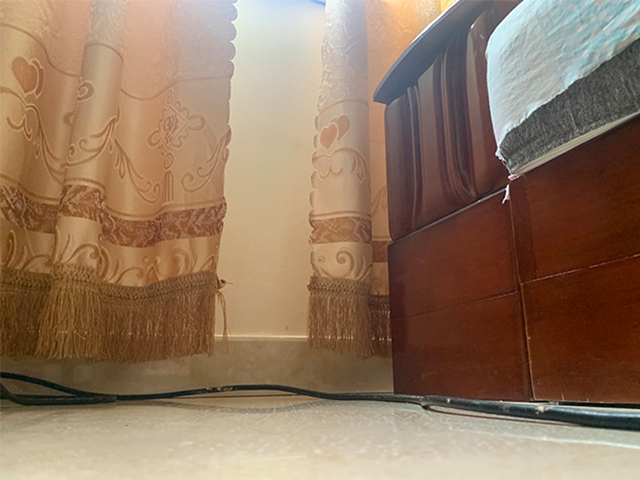curtain: (1, 1, 236, 362), (306, 1, 456, 357)
sofa: (371, 1, 640, 403)
wire: (1, 371, 640, 430)
